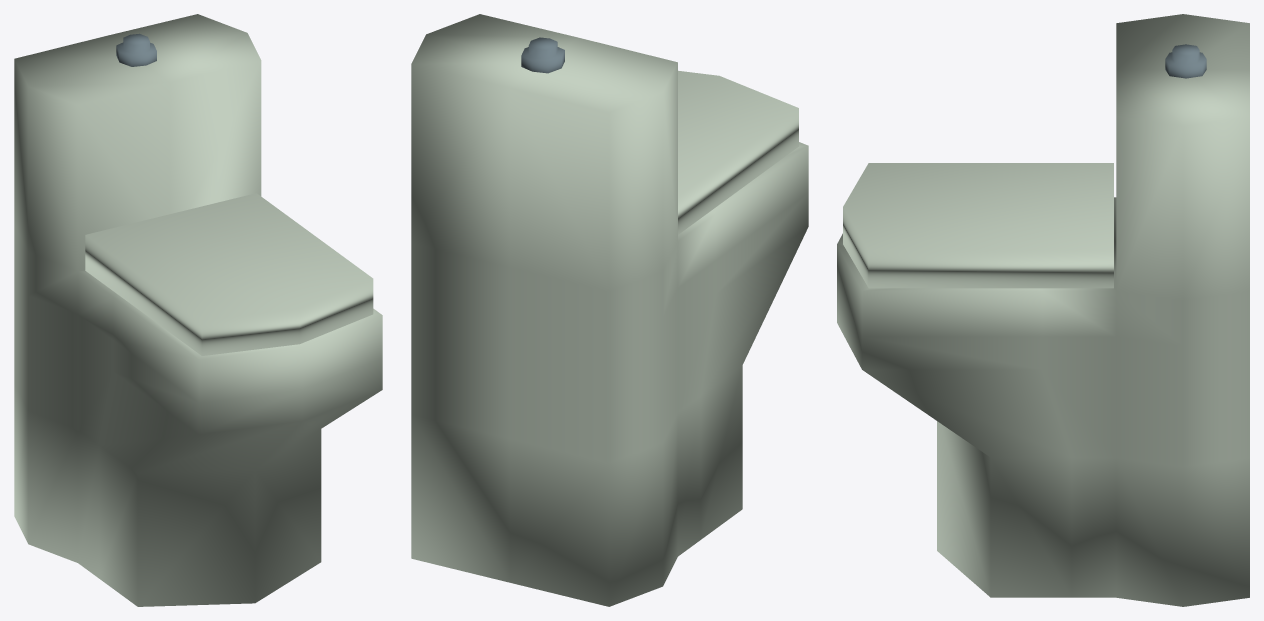
The model's file is Toilet_bathroom_v1.fbx.
3 views of the same model, side by side, from view 1: azimuth 30°, elevation 25°; view 2: azimuth 150°, elevation 25°; view 3: azimuth 270°, elevation 25° (orthographic). The views are drawn at different scales.
Parts seen in each view (by area): view 1: Cube, Cube.001, Cube.002; view 2: Cube, Cube.001, Cube.002; view 3: Cube, Cube.001, Cube.002.
Boxes of the visible parts, bbox=[...] form: Cube: bbox=[14, 14, 382, 606]; Cube.001: bbox=[85, 193, 373, 355]; Cube.002: bbox=[116, 33, 156, 66]; Cube: bbox=[411, 14, 808, 606]; Cube.001: bbox=[678, 70, 798, 234]; Cube.002: bbox=[521, 37, 564, 73]; Cube: bbox=[837, 14, 1249, 606]; Cube.001: bbox=[843, 163, 1113, 288]; Cube.002: bbox=[1165, 44, 1206, 78].
Size of the model in its own units: 47.03 by 97.74 by 73.07.
